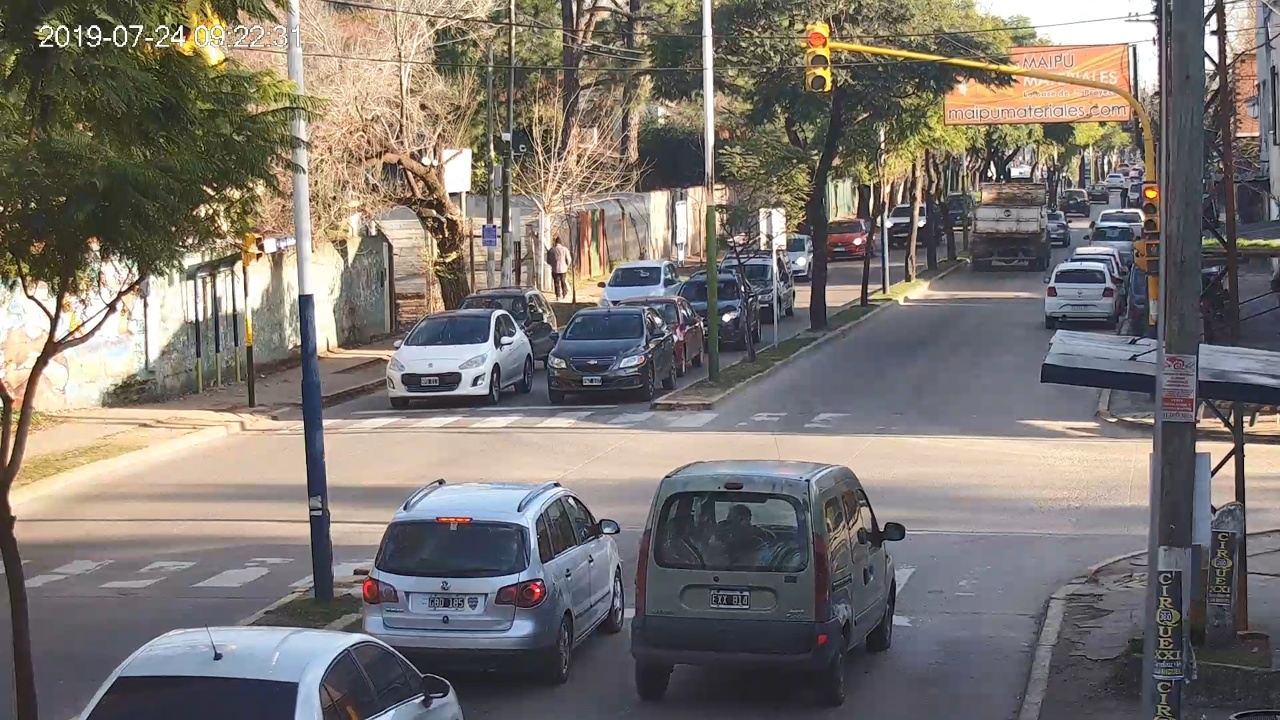car: (632, 460, 905, 706), (64, 626, 459, 720)
traffic light: (807, 25, 829, 91), (1143, 183, 1160, 233)
